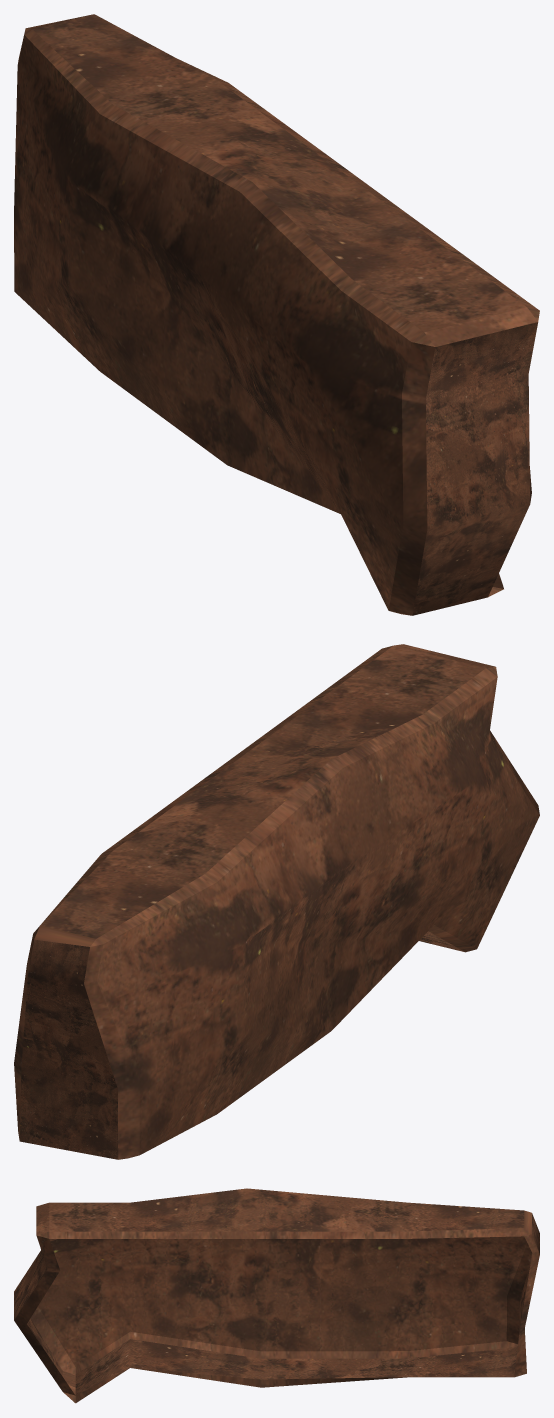
Rendered from SpaceRock2Final.fbx.
3 renders of one model, top to bottom at view 1: azimuth 30°, elevation 25°; view 2: azimuth 150°, elevation 25°; view 3: azimuth 270°, elevation 25°, orthographic. The views are drawn at different scales.
Visible parts, largest first — view 1: Rock1; view 2: Rock1; view 3: Rock1.
Part boxes in pixels (box(x1,y1,x2,y2)): Rock1: box(14, 14, 539, 615); Rock1: box(14, 644, 539, 1159); Rock1: box(14, 1188, 539, 1403).
Bounding box in the file's own units: 5.06 × 9.49 × 24.3.
